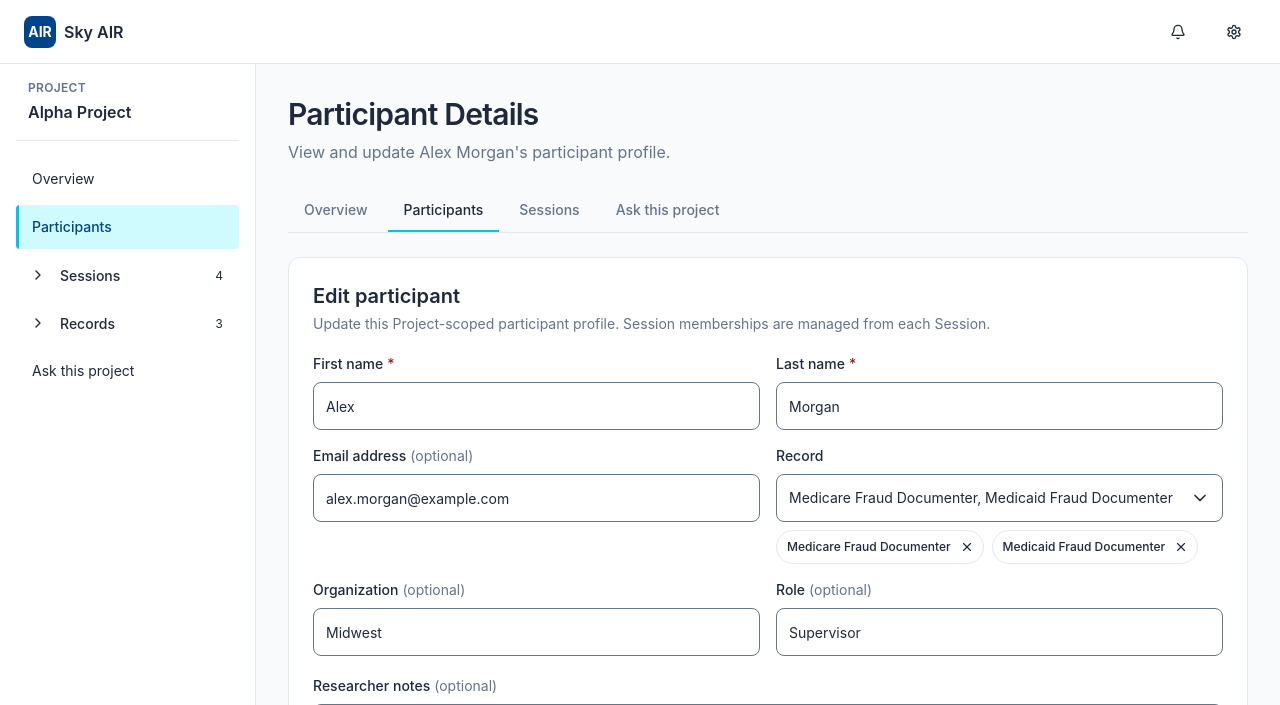
Test case: application router foundation › updates Participant Detail through the API contract and returns to the collection
Replace the text in the field labelled "First name*" with "Alexa" at point(536, 406), box [314, 383, 759, 429]
(page scrolled)
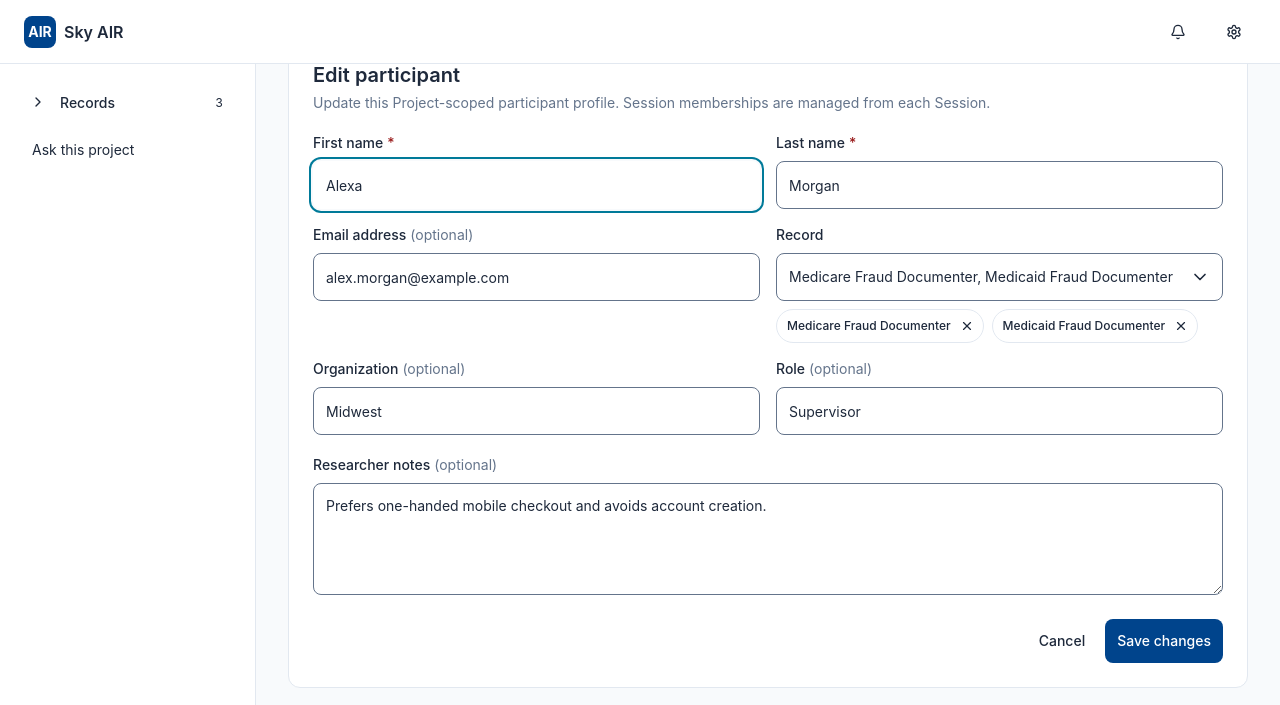
Click the button "Save changes" at point(1164, 641), box [1105, 619, 1223, 663]
(page scrolled)
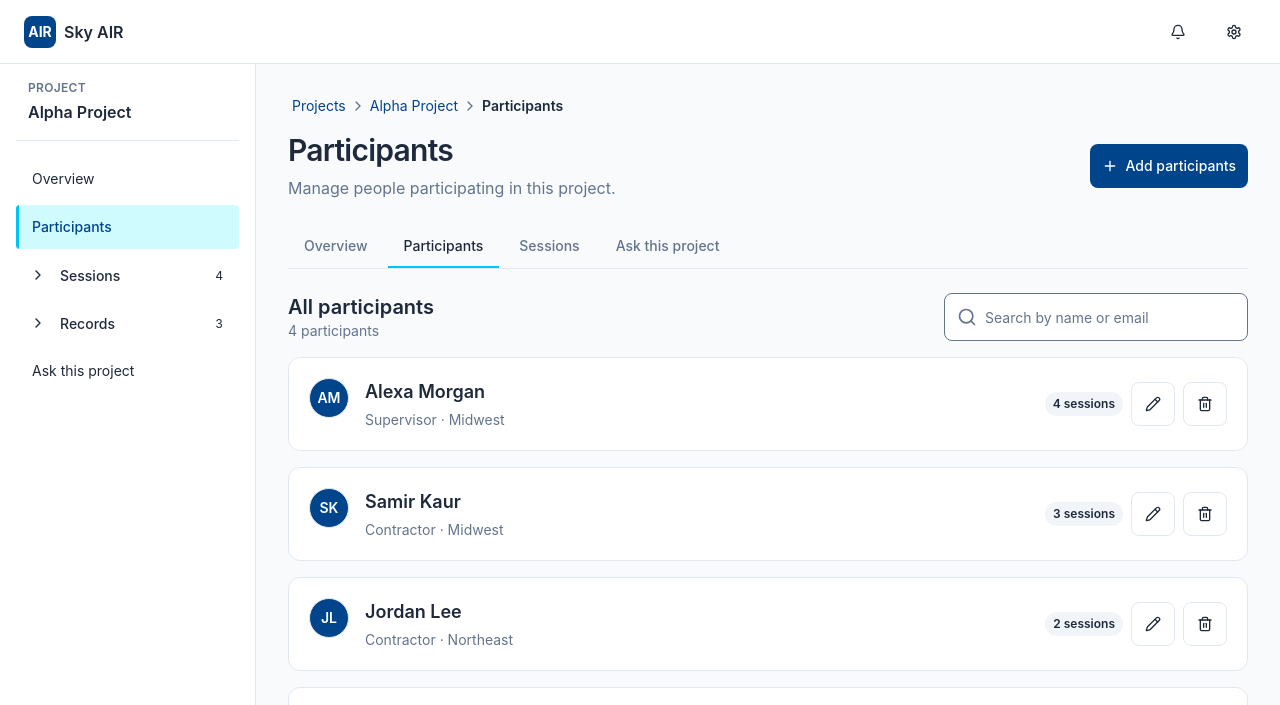
Result: the heading "Participants" is shown at [288, 132, 453, 168]
Result: the link named "Open Alexa Morgan" is shown at [289, 358, 1247, 450]
